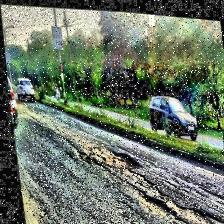pothole: (136, 186, 223, 224), (86, 143, 140, 171)
